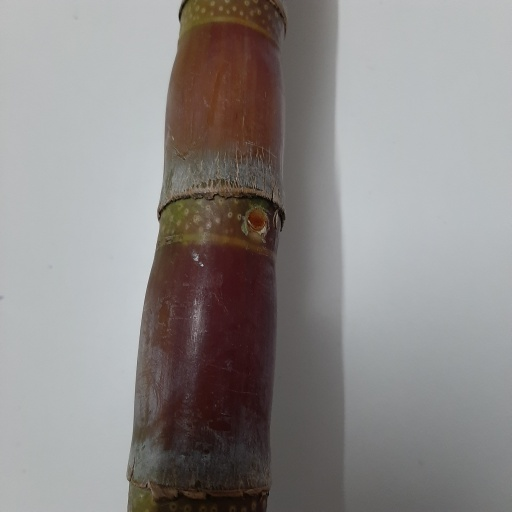Damage_Bud: (243, 204, 270, 238)
